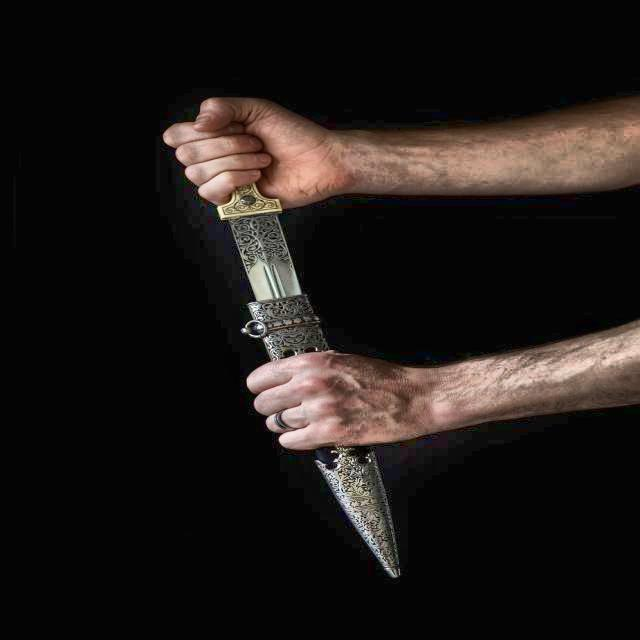knife: (197, 154, 422, 586)
